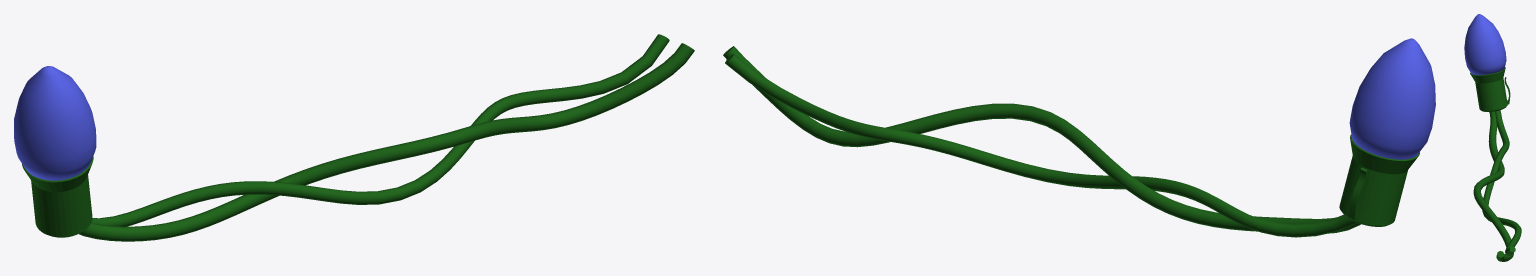
File: festiveLight1.fbx
3 renders of one model, left to right at view 1: azimuth 30°, elevation 25°; view 2: azimuth 150°, elevation 25°; view 3: azimuth 270°, elevation 25°, orthographic. The views are drawn at different scales.
Visible parts, largest first — view 1: Festive Light 1; view 2: Festive Light 1; view 3: Festive Light 1.
Part boxes in pixels (box(x1,y1,x2,y2)): Festive Light 1: box(14, 34, 694, 241); Festive Light 1: box(723, 38, 1435, 237); Festive Light 1: box(1464, 14, 1521, 261).
Bounding box in the file's own units: 293 × 91.11 × 42.13.
